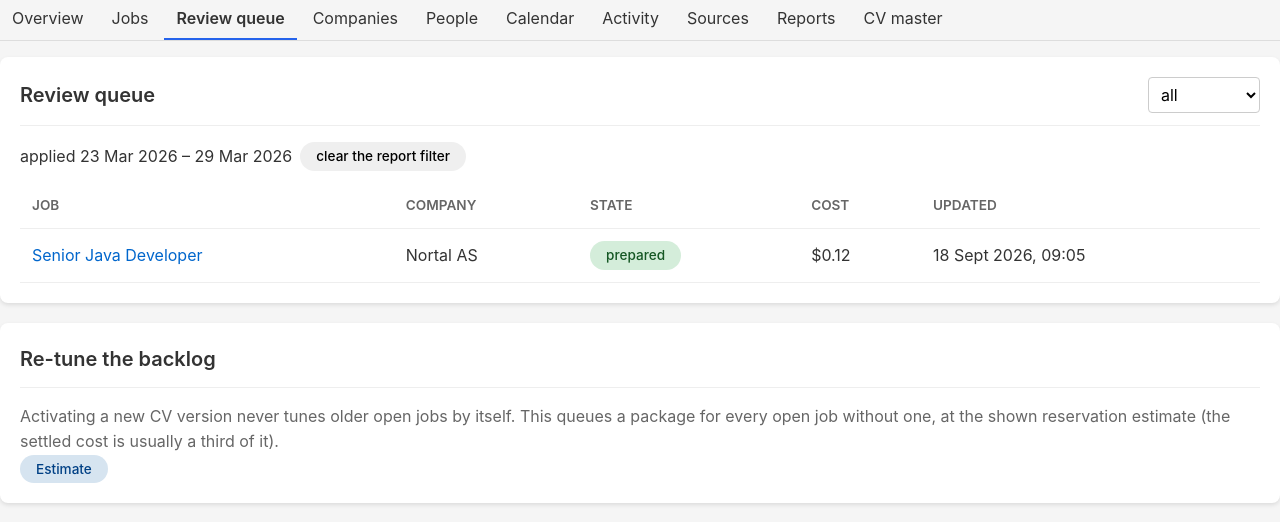
Test: MasiPackages › shows a report's funnel figure: the packages applied in the period, of every state, and clears back to the queue
The width and height of the screenshot is (1280, 522).
Expected: the link "Senior Java Developer" is shown, [32,245,202,265]
Expected: the element "report filter" shows "applied 23 Mar 2026 – 29 Mar 2026", [20,142,466,171]
// a state narrows the figure's packages and keeps the period
Select "prepared" in the dropdown named "State": [1204, 95] box [1148,77,1260,113]
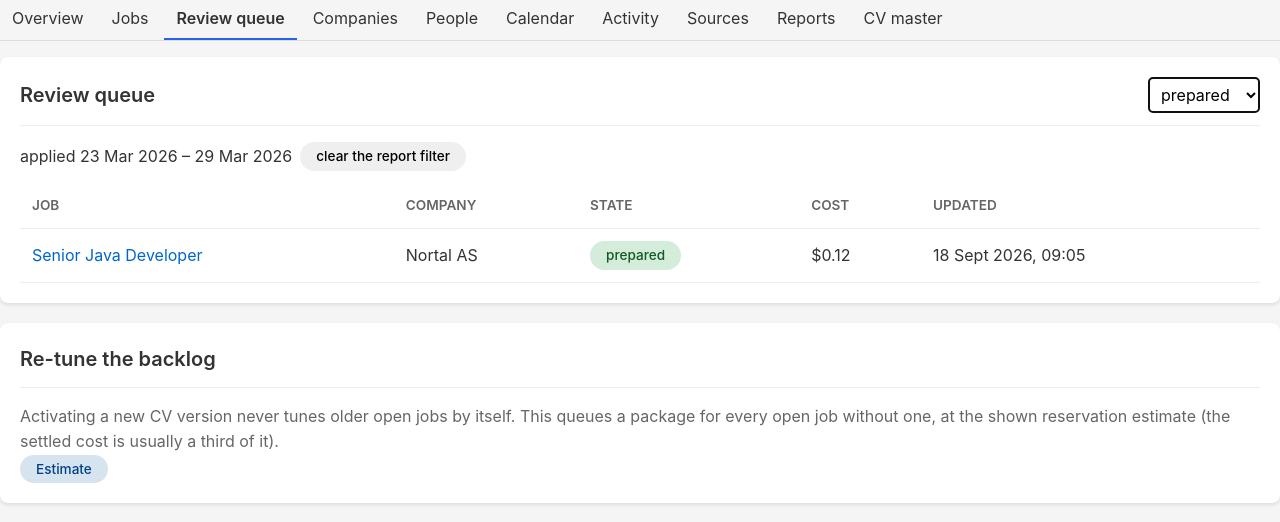
Click the button "clear the report filter": [383, 157] box [300,142,466,171]
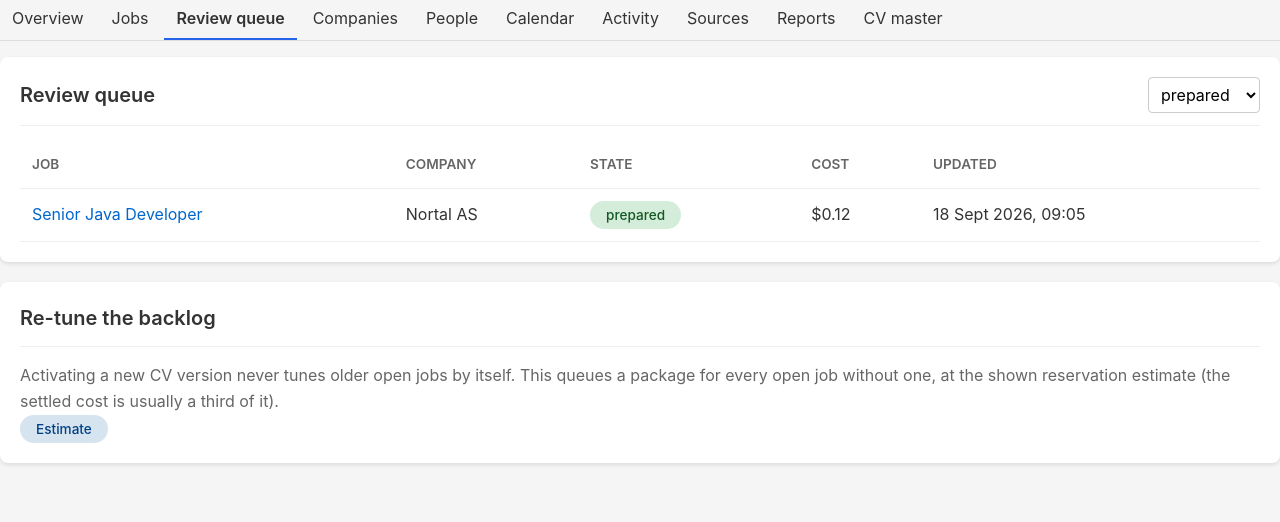
Expected: the button "report filter" is gone
